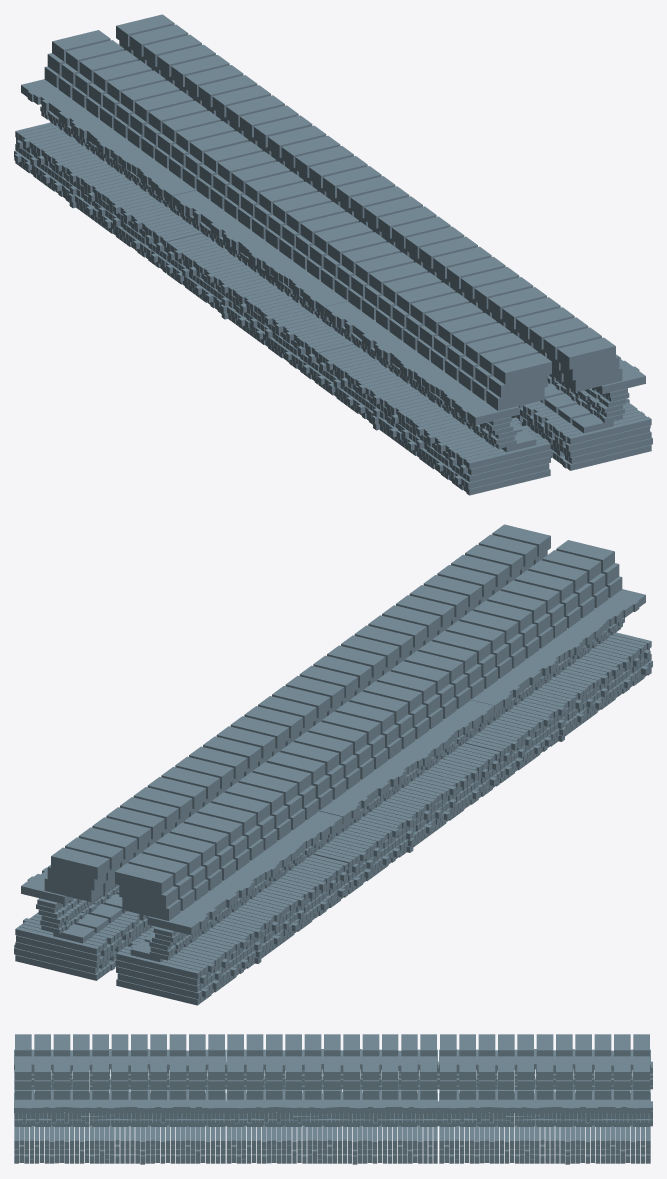
The model's file is palace.fbx.
The picture shows the model from 3 angles, top to bottom: view 1: azimuth 30°, elevation 25°; view 2: azimuth 150°, elevation 25°; view 3: azimuth 270°, elevation 25°; orthographic projection. The views are drawn at different scales.
Parts seen in each view (by area): view 1: polySurface1; view 2: polySurface1; view 3: polySurface1.
Boxes of the visible parts, x1=… form: polySurface1: x1=14, y1=14, x2=652, y2=495; polySurface1: x1=14, y1=524, x2=652, y2=1005; polySurface1: x1=14, y1=1034, x2=652, y2=1164.
Size of the model in its own units: 184 by 104 by 761.
